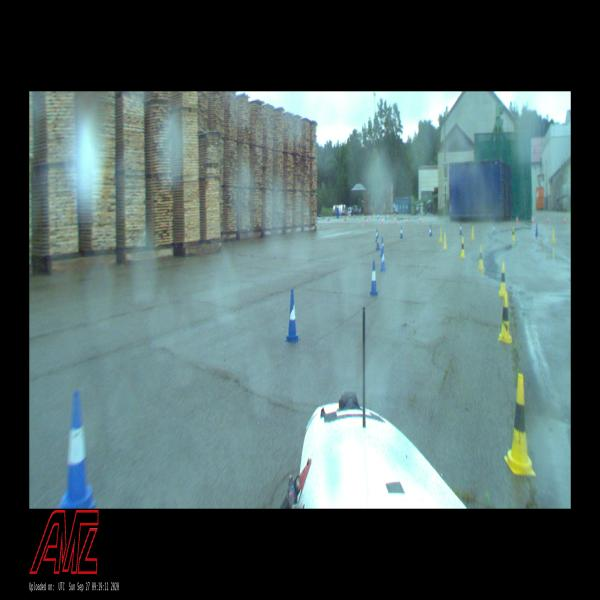blue_cone: (58, 391, 96, 508), (285, 289, 300, 343), (369, 262, 378, 296), (380, 248, 386, 271), (380, 238, 384, 256), (376, 235, 380, 250), (459, 223, 463, 235), (535, 222, 538, 238), (429, 224, 432, 236), (400, 226, 403, 238), (376, 228, 378, 241)
orange_cone: (531, 214, 534, 224), (516, 215, 519, 224), (381, 217, 384, 225), (394, 218, 397, 225), (366, 217, 367, 225)
yellow_cone: (504, 372, 536, 478), (498, 292, 512, 344), (499, 263, 507, 295), (478, 245, 484, 270), (460, 238, 465, 258), (443, 234, 447, 249), (470, 226, 474, 239), (552, 228, 555, 243), (512, 227, 515, 241), (439, 228, 442, 242)
